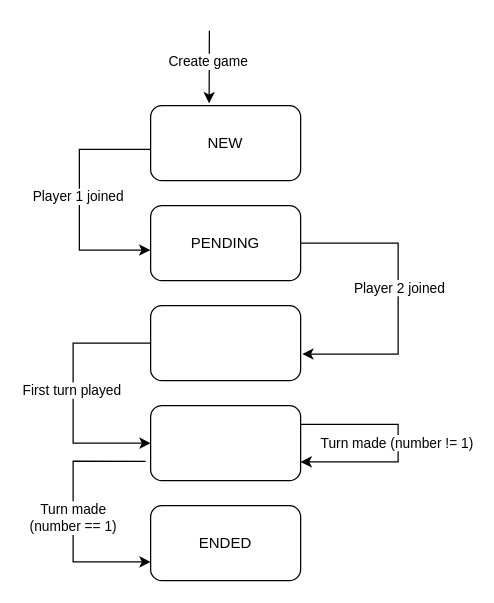
Image size: 494x603. Some labels were removed from this diagram. Each missing label, with the box of its shape:
IN PROGRESS: (149, 404, 301, 481)
READY: (149, 304, 301, 381)
